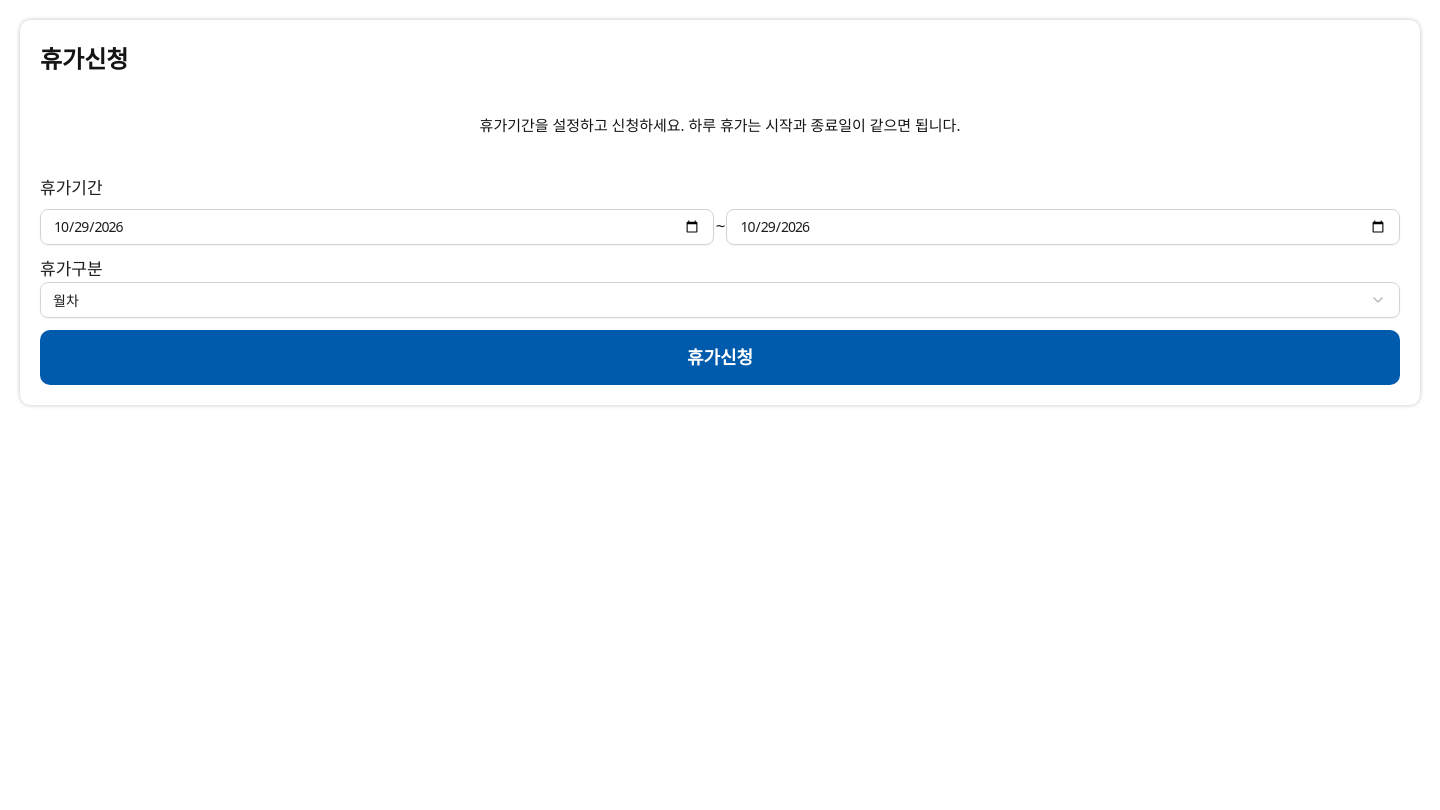
Test: guard leave application › shows a saved result when push fails and prevents another submission
Expected: the date field named "시작일" is shown, [40,209,714,245]
Click the button "휴가신청". click: point(720, 358)
box: [40,330,1400,385]
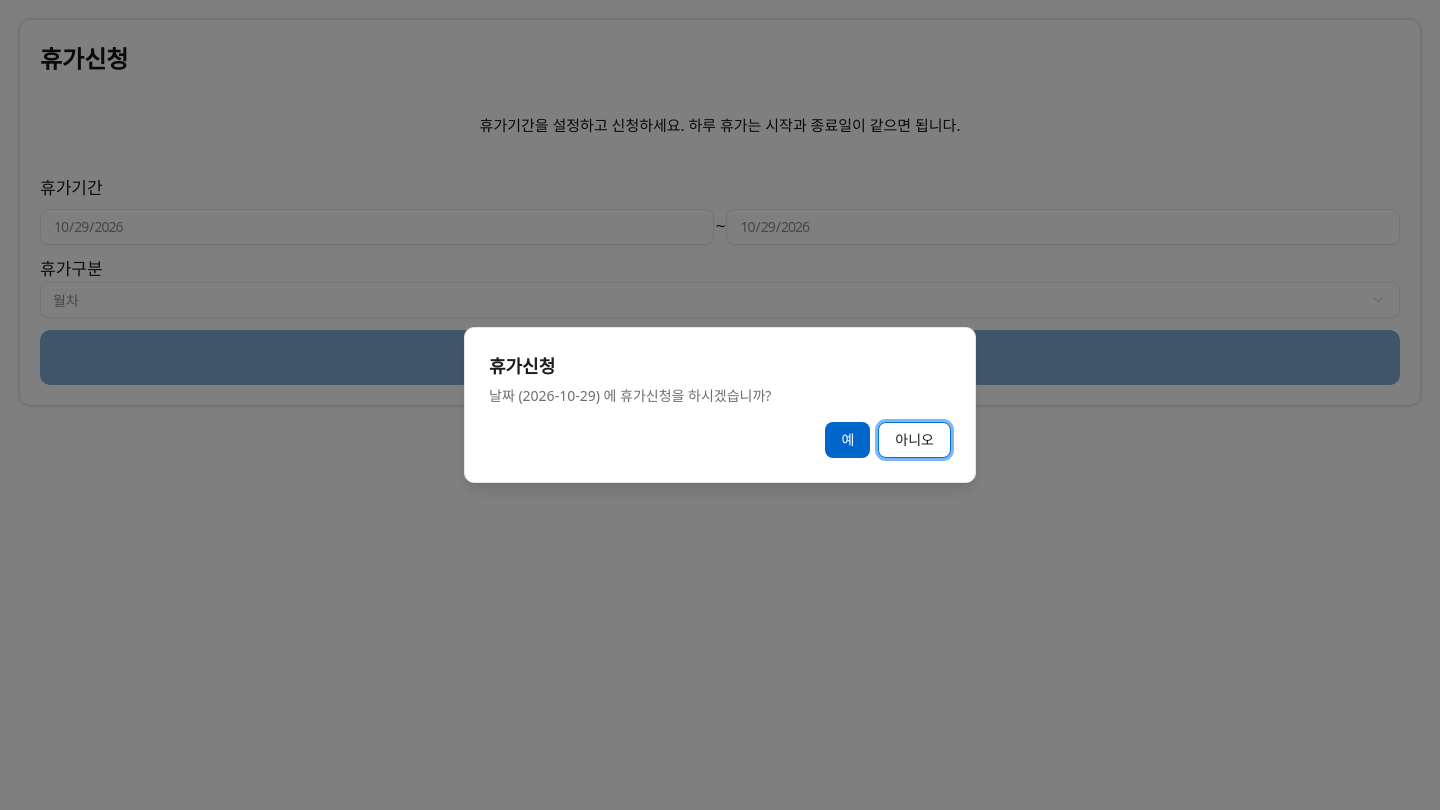
Click the button "예". click: point(848, 440)
box: [826,422,870,458]
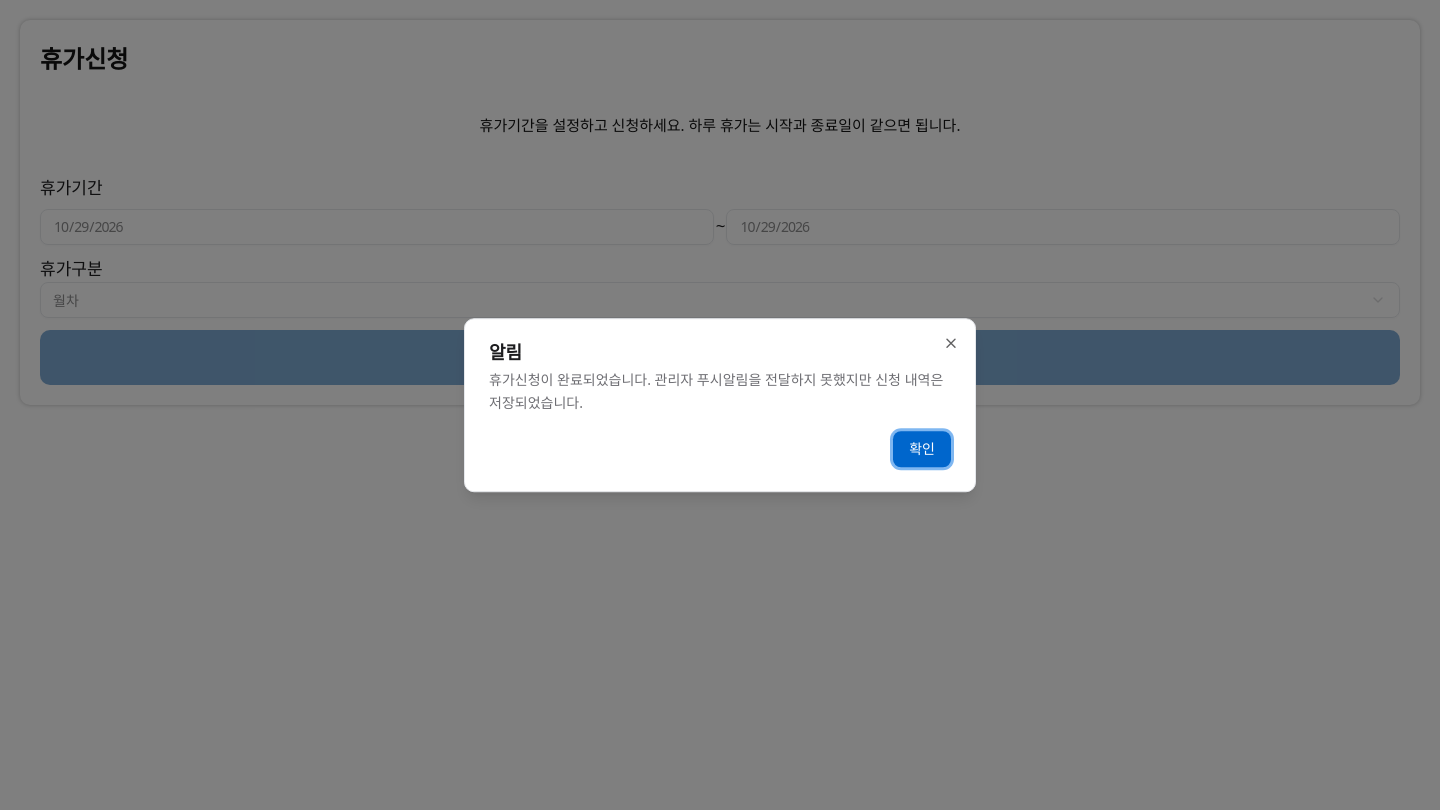
Expected: the text "휴가신청이 완료되었습니다. 관리자 푸시알림을 전달하지 못했지만 신청 내역은 저장되었습니다." is shown, [489,369,951,415]
